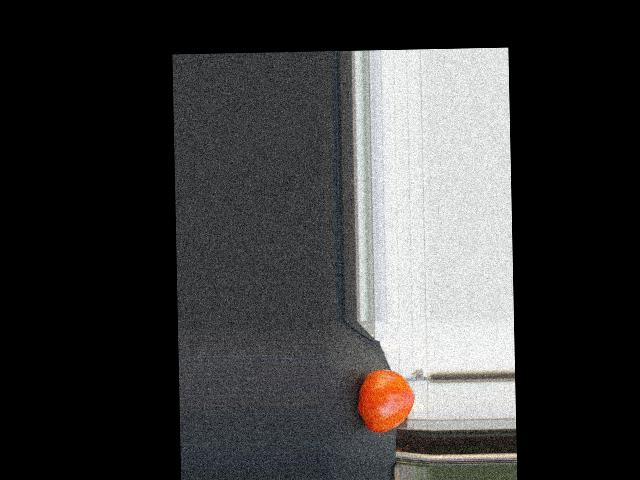tomato: (357, 368, 415, 432)
